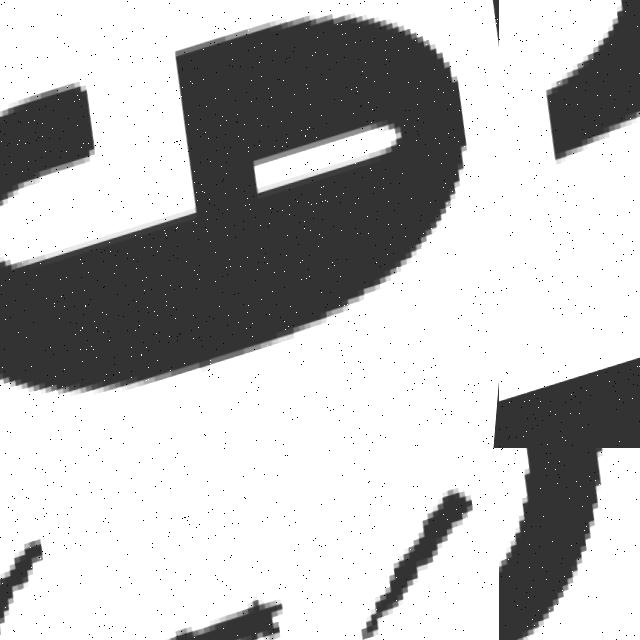2: (499, 0, 640, 392)
E: (0, 21, 470, 399)
I: (0, 448, 499, 640)
S: (499, 448, 640, 640)
